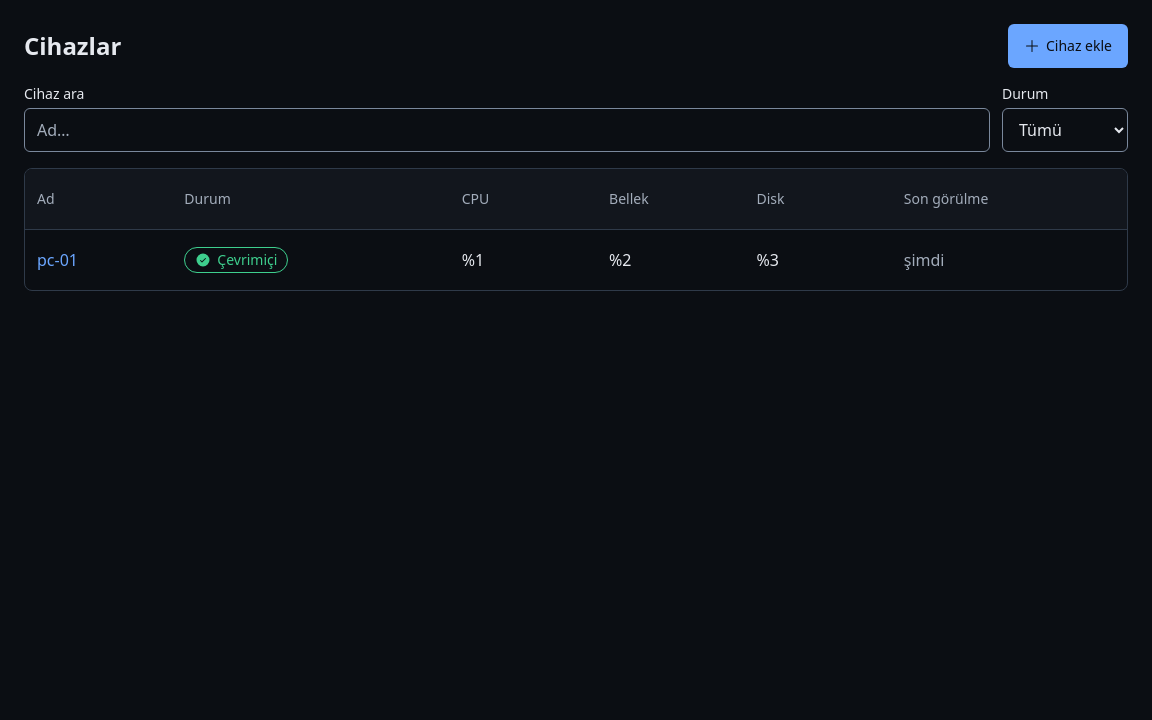
Test: Cihaz ekle (enrollment token) › varsayilan 60 dk: POST govdesi {ttl_minutes:60}; token YALNIZ simdi, tek kullanimlik uyarisiyla gosterilir
Click the button "Cihaz ekle". click: (1068, 46)
box: [1008,24,1128,68]
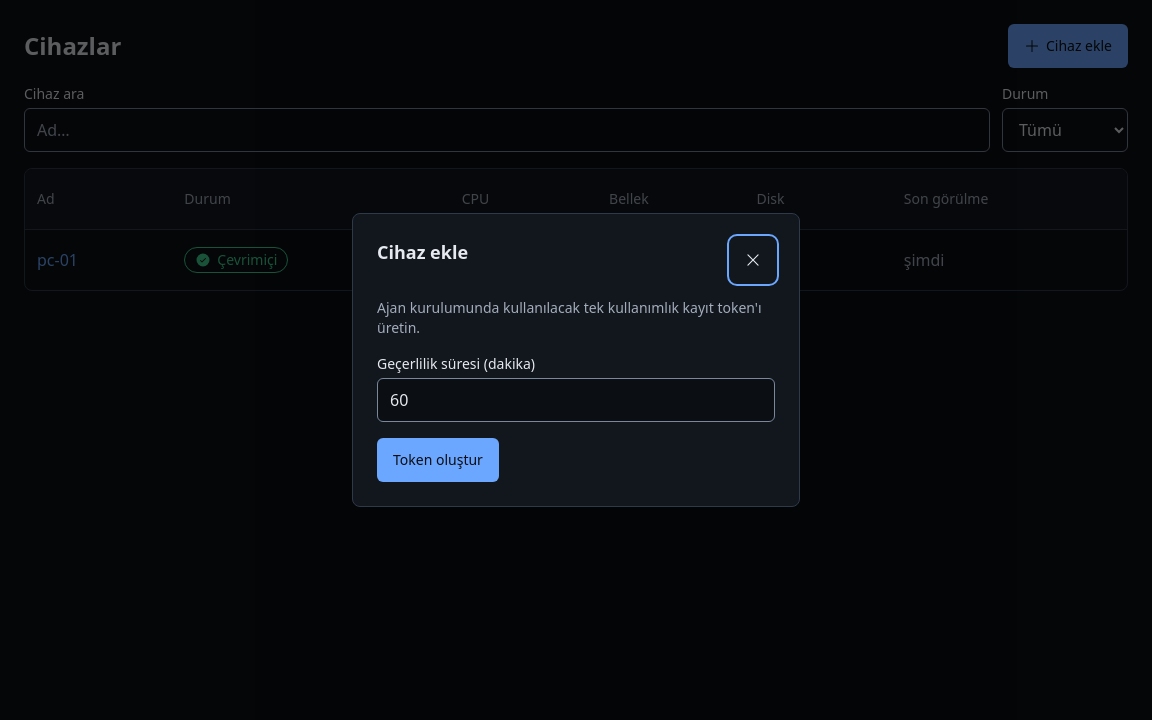
Click the button "Token oluştur". click: (438, 460)
box: [377,438,499,482]
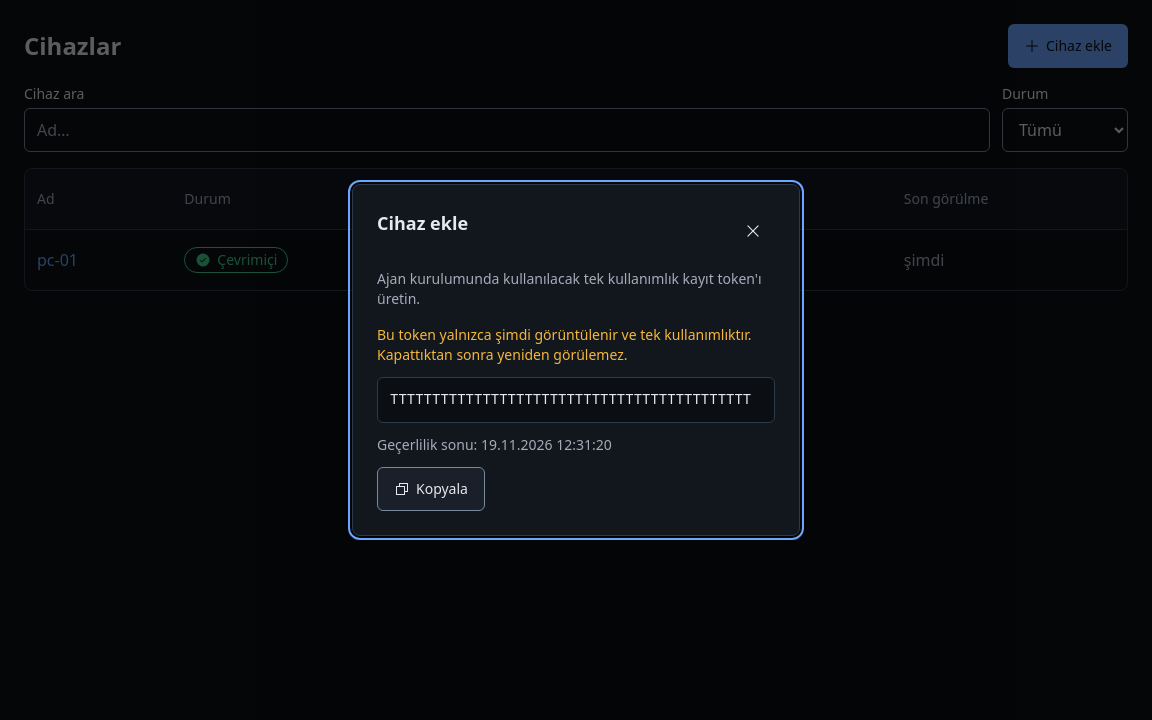
Result: the text "yalnızca şimdi görüntülenir" is shown at [377,325,752,364]
